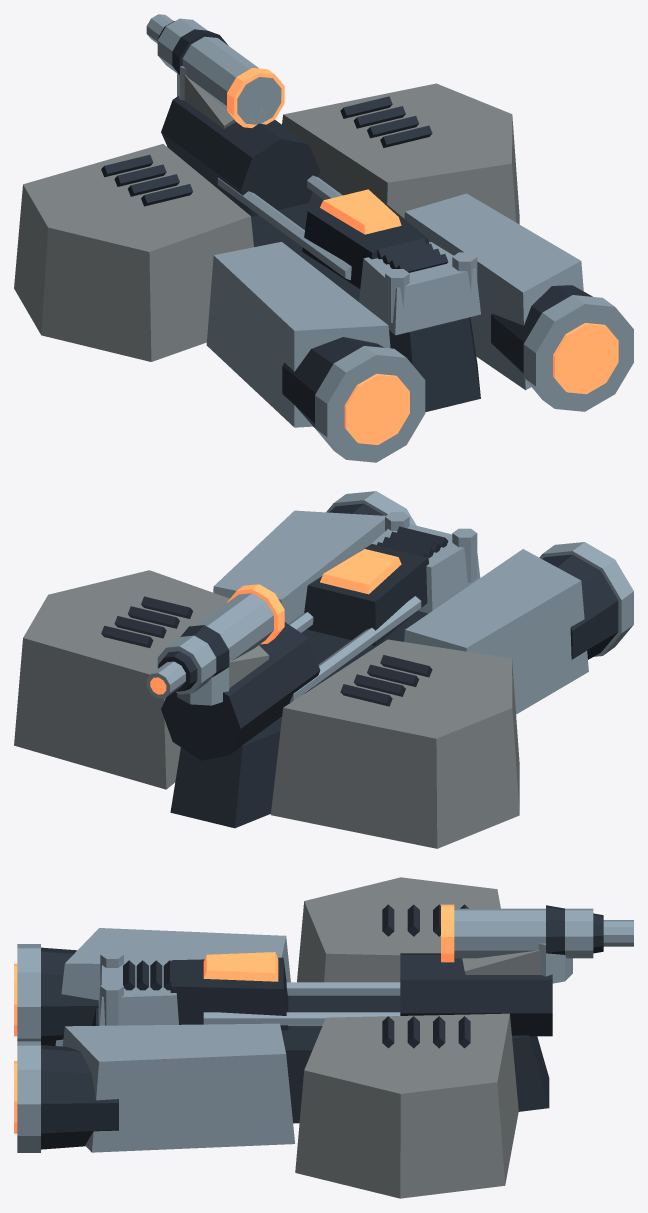
File: c3_skirmisher.glb
3 views of the same model, one above another, from view 1: azimuth 30°, elevation 25°; view 2: azimuth 150°, elevation 25°; view 3: azimuth 270°, elevation 25° (orthographic). The views are drawn at different scales.
Visible parts, largest first — view 1: c3_skirmisher / Titanium, c3_skirmisher / Armor, c3_skirmisher / Chassis, c3_skirmisher / Energy; view 2: c3_skirmisher / Armor, c3_skirmisher / Titanium, c3_skirmisher / Chassis, c3_skirmisher / Energy; view 3: c3_skirmisher / Titanium, c3_skirmisher / Armor, c3_skirmisher / Chassis, c3_skirmisher / Energy.
Part boxes in pixels (left/top/right/bottom): c3_skirmisher / Titanium: left=146, top=14, right=633, bottom=462; c3_skirmisher / Armor: left=14, top=75, right=519, bottom=361; c3_skirmisher / Chassis: left=101, top=21, right=592, bottom=427; c3_skirmisher / Energy: left=227, top=68, right=618, bottom=444; c3_skirmisher / Armor: left=14, top=570, right=519, bottom=848; c3_skirmisher / Titanium: left=146, top=491, right=633, bottom=714; c3_skirmisher / Chassis: left=101, top=503, right=618, bottom=828; c3_skirmisher / Energy: left=150, top=549, right=401, bottom=694; c3_skirmisher / Titanium: left=17, top=908, right=633, bottom=1152; c3_skirmisher / Armor: left=295, top=877, right=540, bottom=1198; c3_skirmisher / Chassis: left=41, top=904, right=603, bottom=1149; c3_skirmisher / Energy: left=14, top=904, right=454, bottom=1133.
Bounding box in the file's own units: 1.56 × 0.63 × 1.83.
